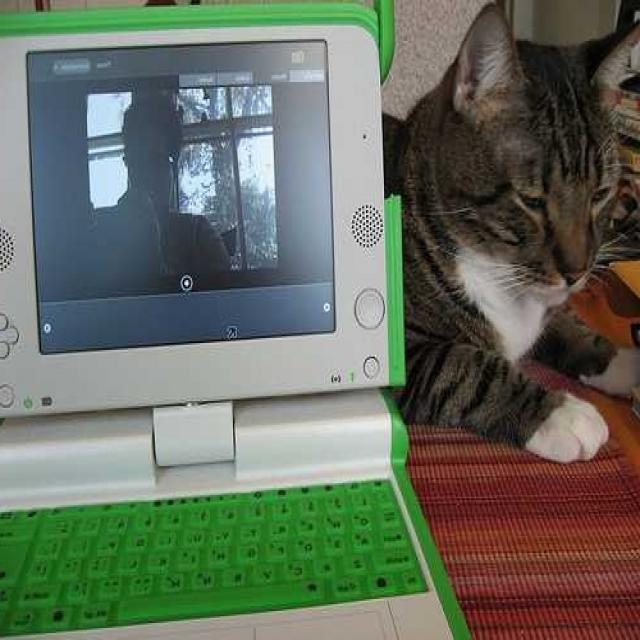laptop: (1, 0, 458, 640)
